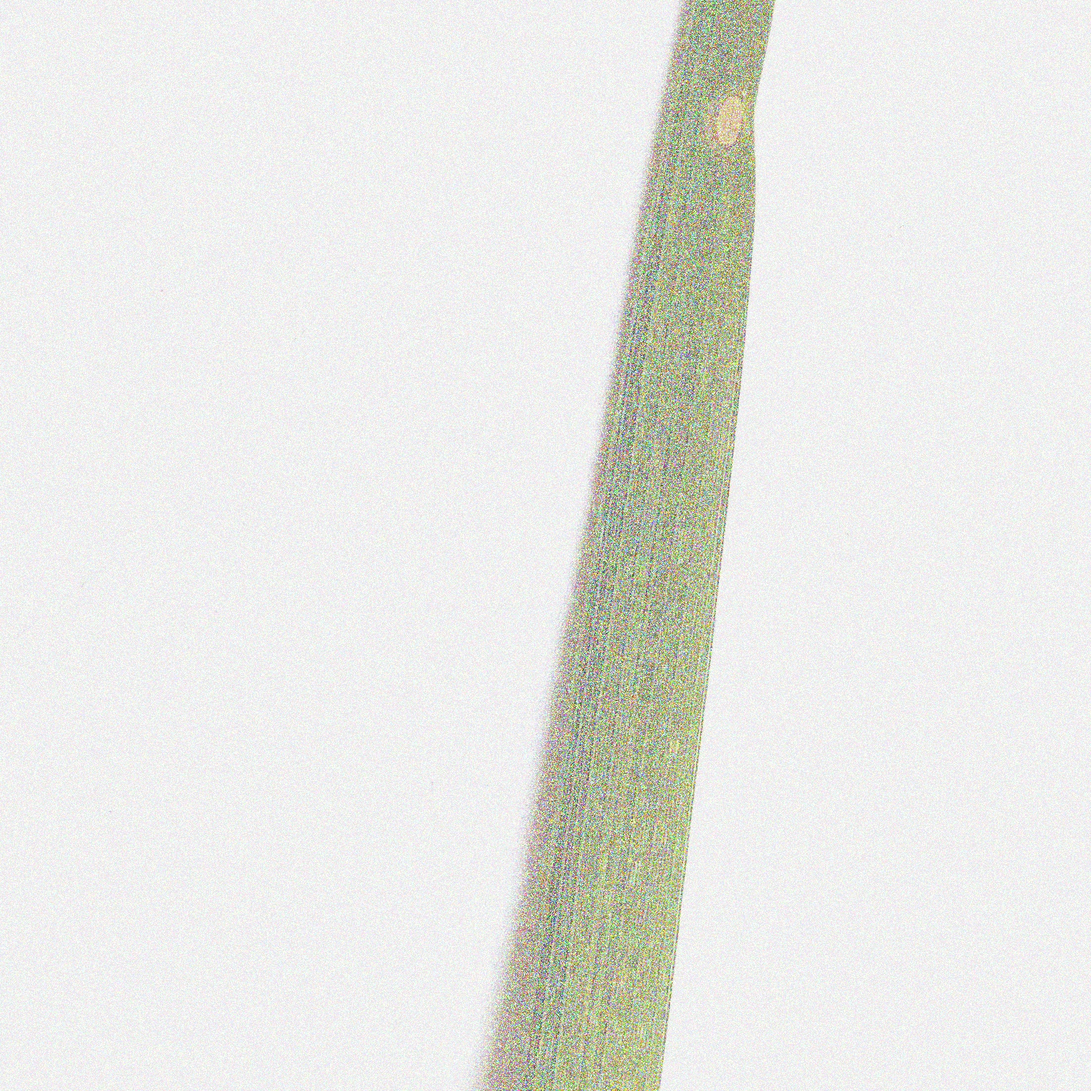Brown_Spot: (702, 63, 771, 154)
